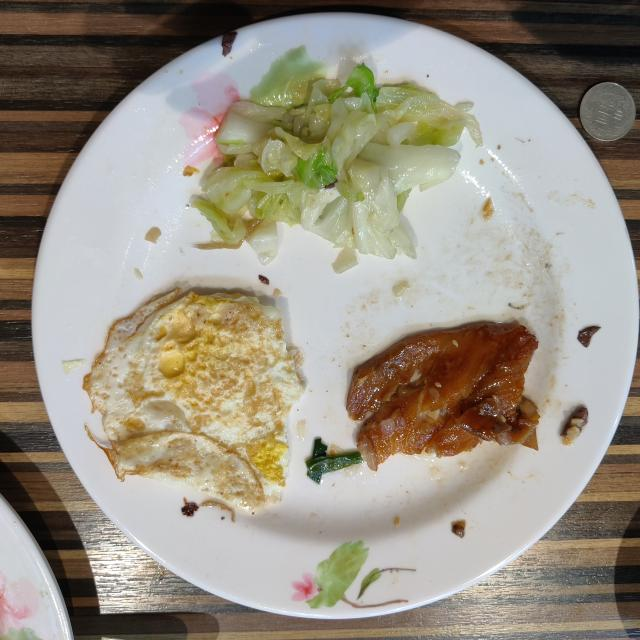Kabayaki sea bream fillet: (346, 322, 539, 470)
cabbage: (195, 49, 481, 259)
coin: (580, 82, 636, 141)
